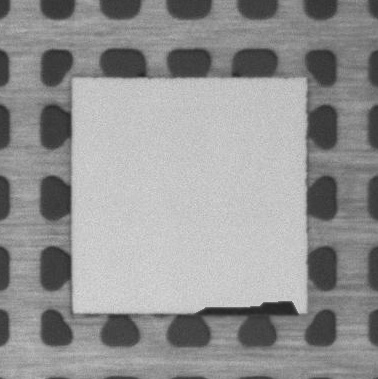DIE_BROKEN: (195, 298, 299, 318)
